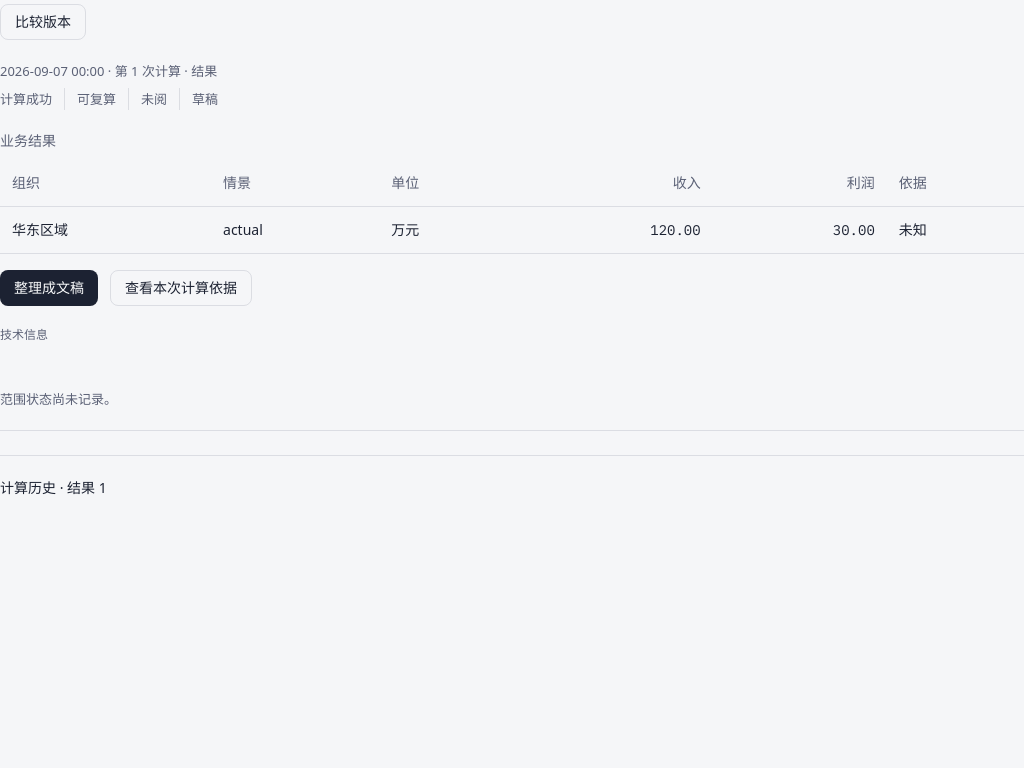
RunPanel result head and next steps › closes the comparison and the evidence panel when another version is picked
Step 1. Click the button "比较版本" → (43, 22), box [0,4,86,40]
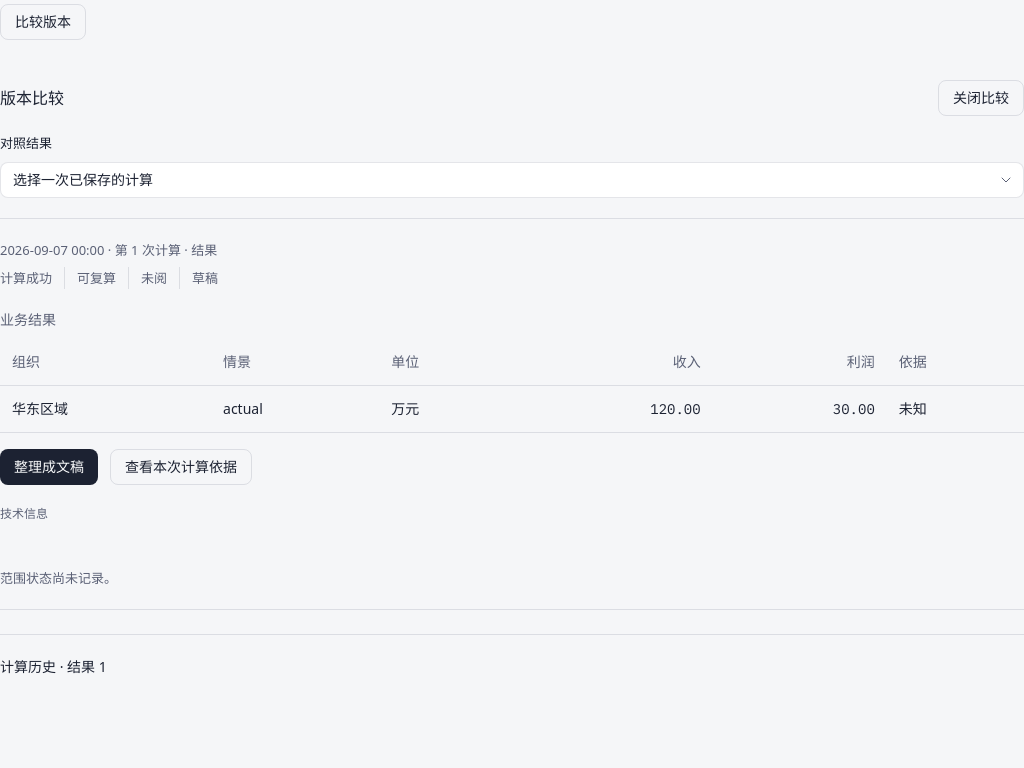
Step 2. Click the button "查看本次计算依据" → (181, 467), box [110,449,252,485]
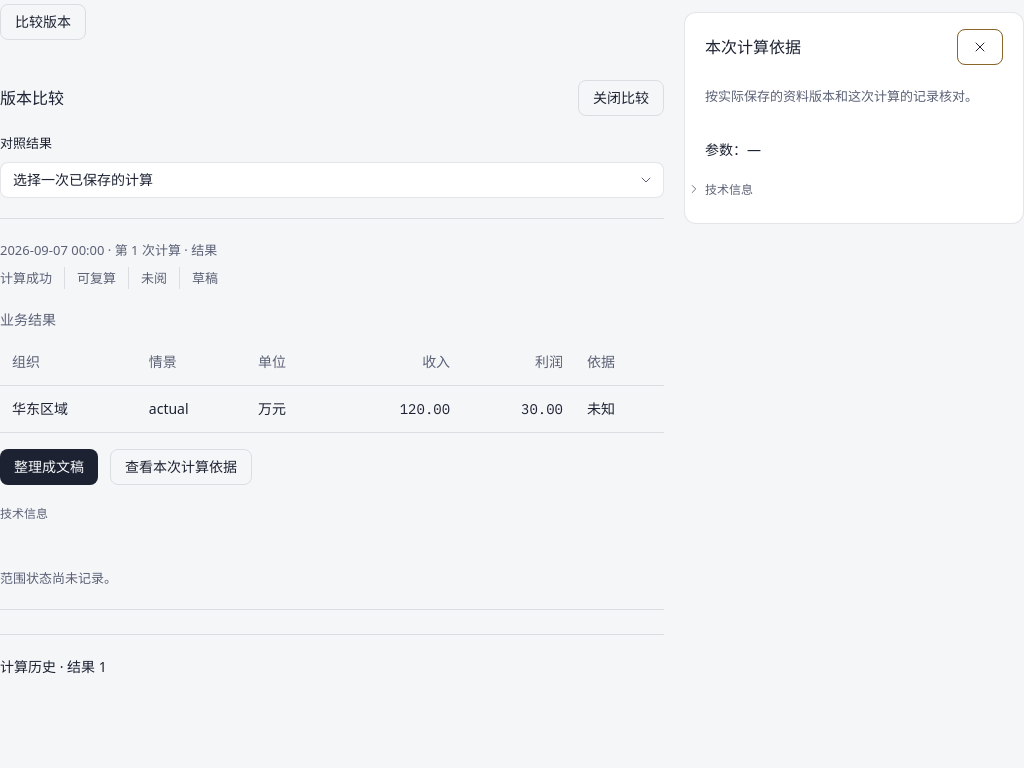
Expected: the element "版本比较" is shown, [0,60,664,219]
Expected: the dialog "本次计算依据" is shown, [684,12,1023,224]
